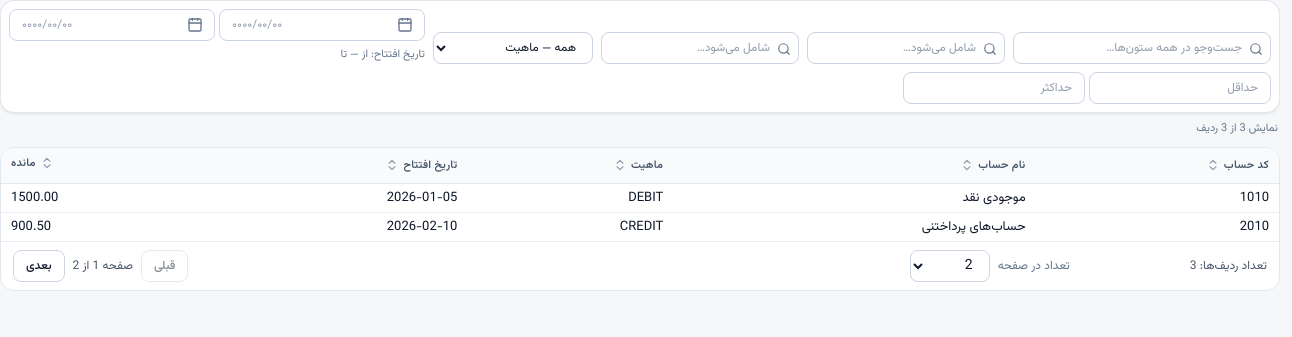
Test case: DataTable client mode — pagination › pages the filtered result and changes the page size
The width and height of the screenshot is (1292, 337).
Check: the text "موجودی نقد" is shown, box [673,184,1036,213]
Check: the text "حساب‌های پرداختنی" is shown, box [673,213,1036,241]
Click the button "بعدی" at (39, 266), box [13,250,64,282]
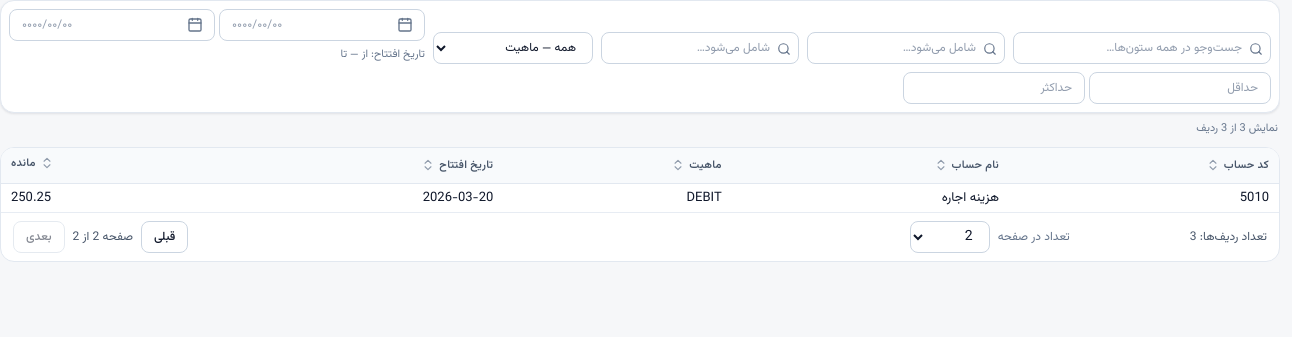
Check: the text "هزینه اجاره" is shown, box [732,184,1009,212]
Check: the text "موجودی نقد" is gone
Select "25" in the dropdown labelled "تعداد در صفحه" at (950, 237), box [910,221,990,253]
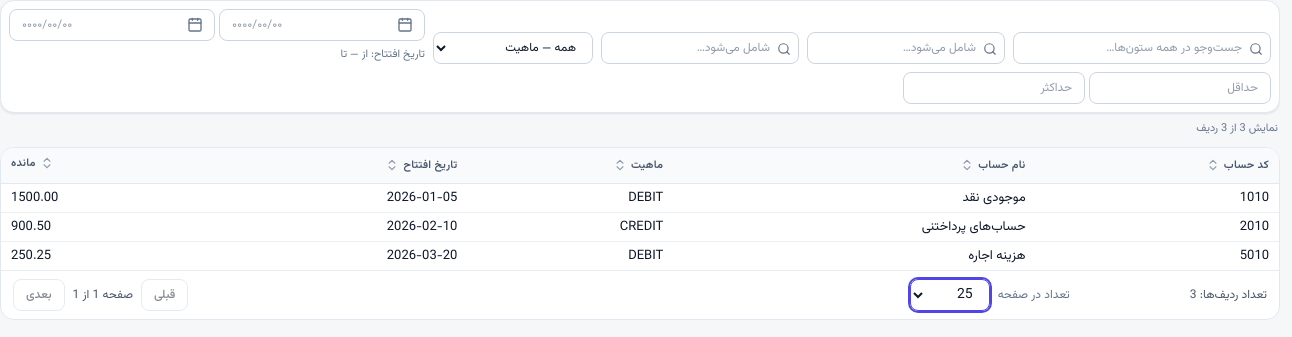
Check: the text "هزینه اجاره" is shown, box [673,242,1036,270]
Check: the button "بعدی" is disabled, box [13,279,64,311]
Check: the text "موجودی نقد" is shown, box [673,184,1036,213]
